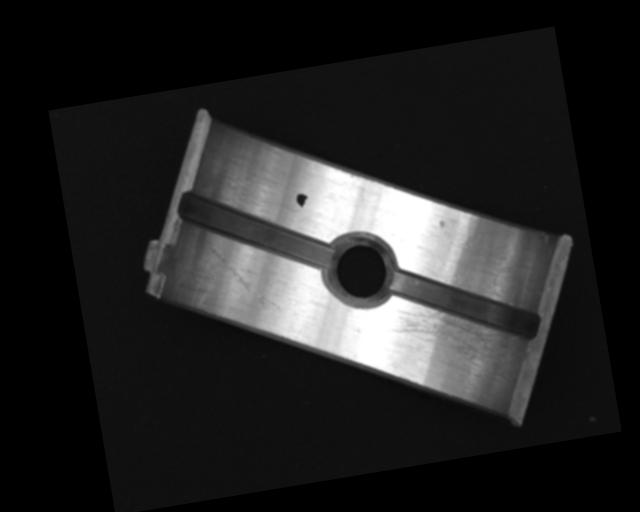blot: (295, 191, 310, 208)
bruise: (438, 219, 446, 229)
gap: (175, 169, 334, 290), (388, 248, 541, 359)
hole: (321, 230, 399, 312)
nick: (207, 235, 282, 321)
scratch: (375, 288, 525, 399)
